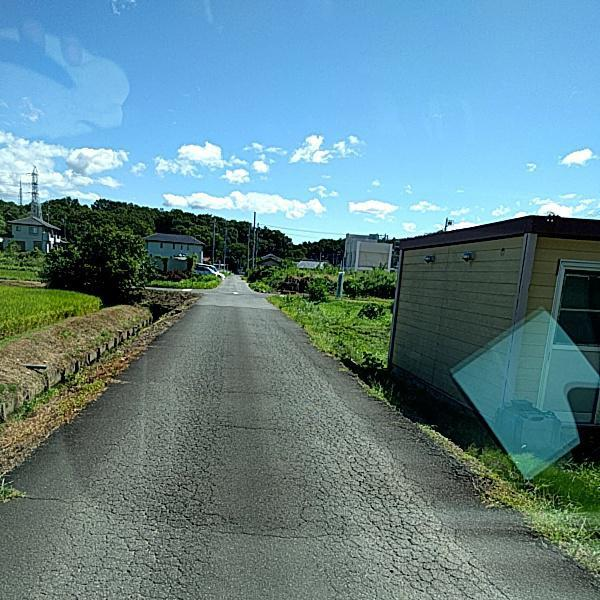D10: (215, 517, 327, 543), (204, 418, 284, 433), (219, 384, 280, 398)
D20: (13, 369, 519, 594)
